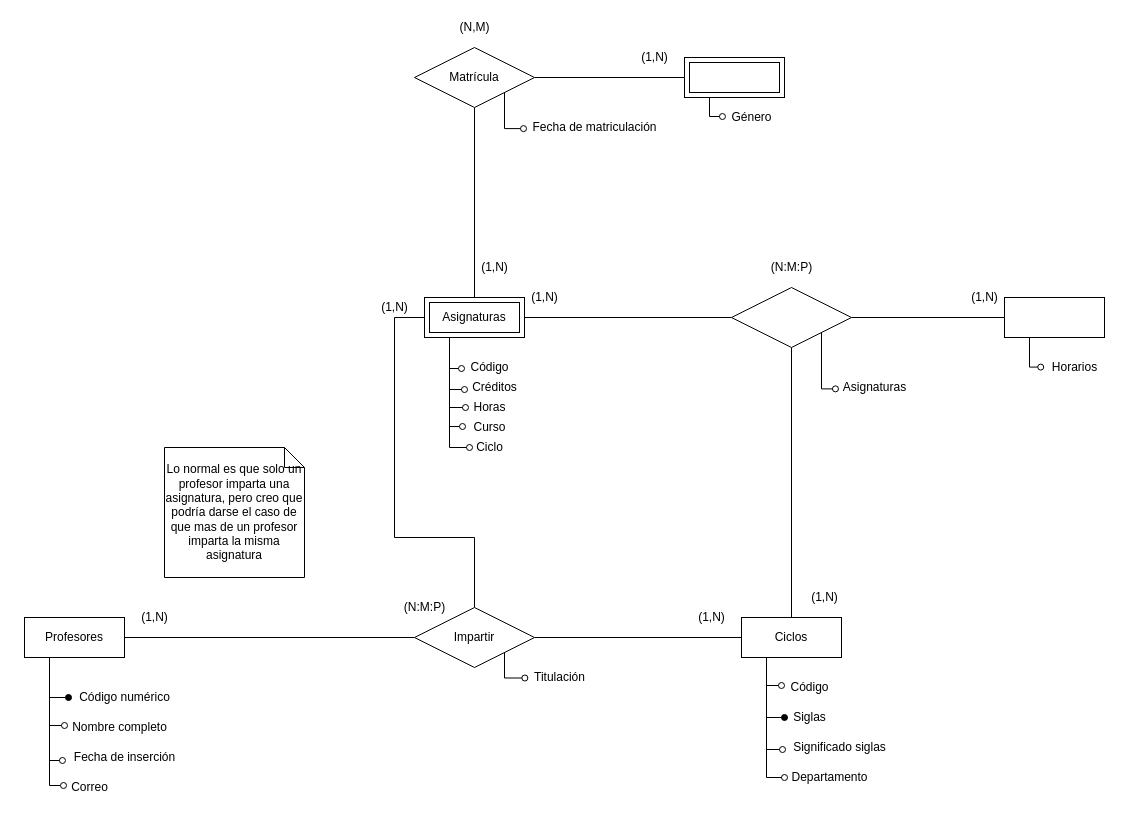
Image size: 1122x814. Some labels were removed from this diagram. The shapes that lost their labels are listed below. From the top down, each one's centre as x and y in pixels, then its label:
the point at 734,77: Alumnos
the point at 791,317: A distancia
the point at 1054,317: Tareas Asociadas
